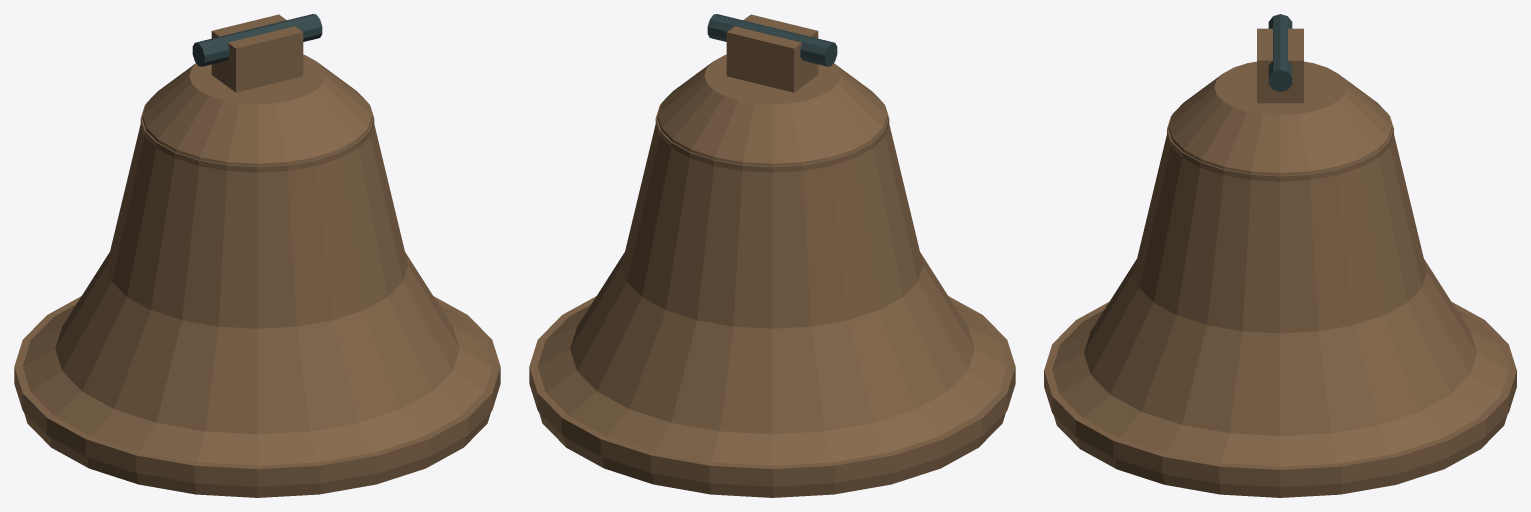
The model's file is FoundryBell.glb.
3 views of the same model, side by side, from view 1: azimuth 30°, elevation 25°; view 2: azimuth 150°, elevation 25°; view 3: azimuth 270°, elevation 25° (orthographic). The views are drawn at different scales.
Visible parts, largest first — view 1: Hollow bronze bell, Bell skirt bead, Bell crown, Suspension pin, Bell shoulder bead; view 2: Hollow bronze bell, Bell skirt bead, Bell crown, Suspension pin, Bell shoulder bead; view 3: Hollow bronze bell, Bell skirt bead, Bell crown, Bell shoulder bead, Suspension pin.
Part boxes in pixels (x1=…): Hollow bronze bell: x1=22, y1=54, x2=492, y2=497; Bell skirt bead: x1=14, y1=296, x2=500, y2=486; Bell crown: x1=211, y1=14, x2=303, y2=92; Suspension pin: x1=192, y1=14, x2=322, y2=66; Bell shoulder bead: x1=140, y1=104, x2=374, y2=172; Hollow bronze bell: x1=537, y1=54, x2=1007, y2=497; Bell skirt bead: x1=529, y1=296, x2=1015, y2=486; Bell crown: x1=726, y1=14, x2=818, y2=92; Suspension pin: x1=707, y1=14, x2=837, y2=66; Bell shoulder bead: x1=655, y1=104, x2=889, y2=172; Hollow bronze bell: x1=1052, y1=61, x2=1508, y2=497; Bell skirt bead: x1=1044, y1=302, x2=1516, y2=486; Bell crown: x1=1257, y1=28, x2=1303, y2=103; Bell shoulder bead: x1=1167, y1=114, x2=1393, y2=181; Suspension pin: x1=1268, y1=14, x2=1292, y2=91.
Size of the model in its own units: 5 by 4.18 by 5.
